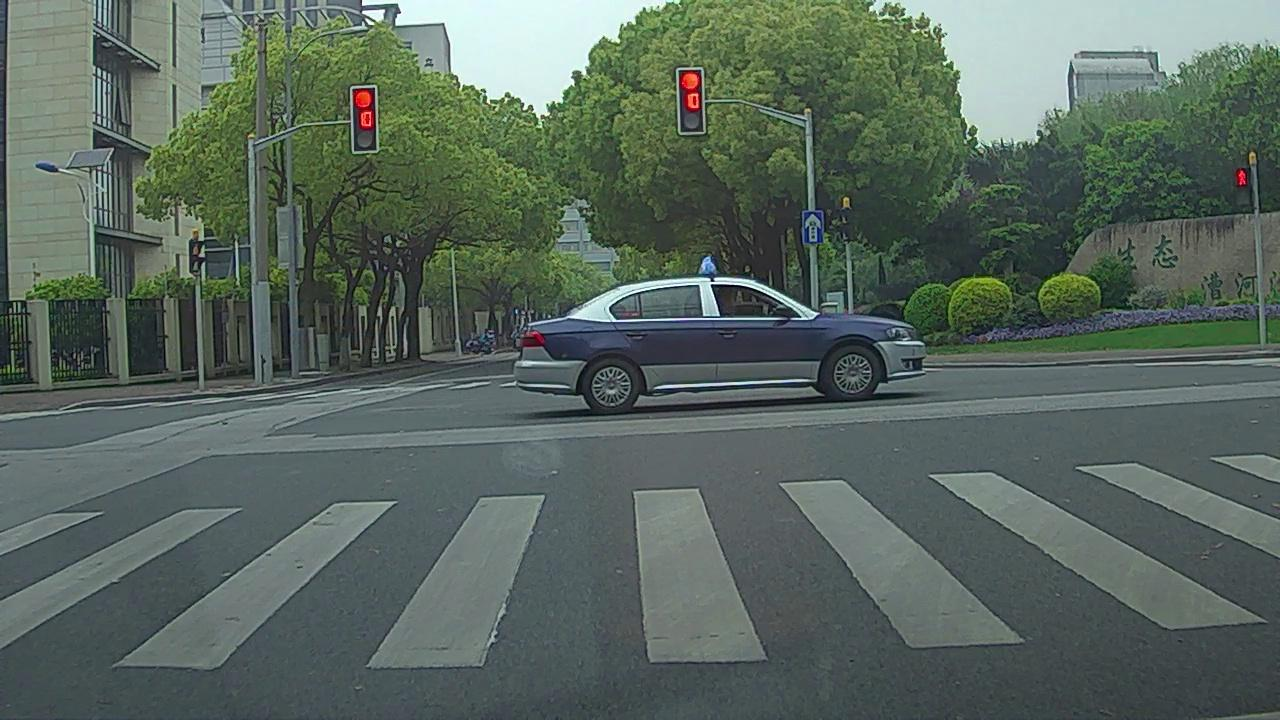traffic_light: (678, 69, 703, 131), (352, 89, 376, 150)
